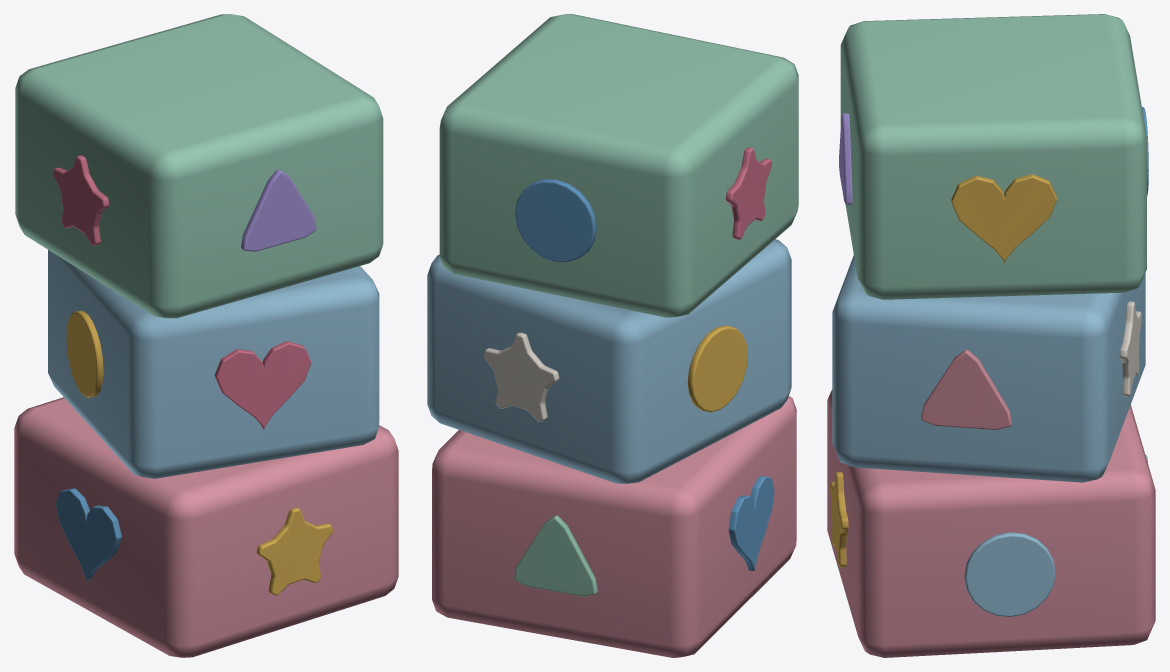
The model's file is stacking-block-tower.glb.
The picture shows the model from 3 angles, left to right: view 1: azimuth 30°, elevation 25°; view 2: azimuth 150°, elevation 25°; view 3: azimuth 270°, elevation 25°; orthographic projection. The views are drawn at different scales.
Parts seen in each view (by area): view 1: stacking-block-tower; view 2: stacking-block-tower; view 3: stacking-block-tower.
Part boxes in pixels (x1,y1,x2,y2): stacking-block-tower: [14, 14, 398, 657]; stacking-block-tower: [427, 14, 798, 657]; stacking-block-tower: [827, 14, 1155, 657].
Bounding box in the file's own units: 1.36 × 2.4 × 1.36.
